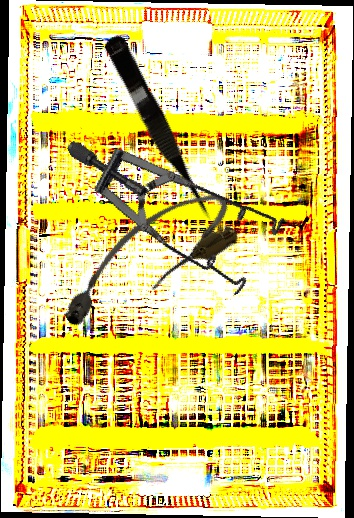Cannula: (43, 178, 247, 339)
Micro Scissor: (98, 32, 219, 228)
Speculum: (65, 72, 305, 333)
